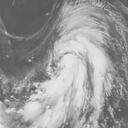cyclone: (16, 1, 119, 127)
